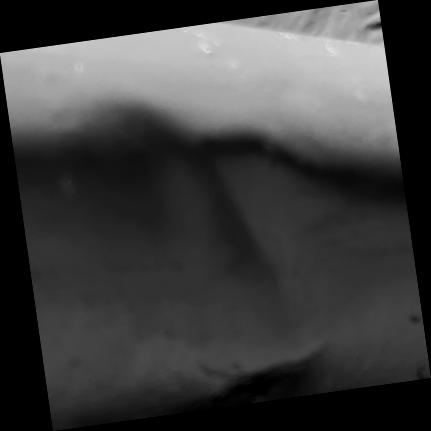dent: (0, 1, 430, 431)
